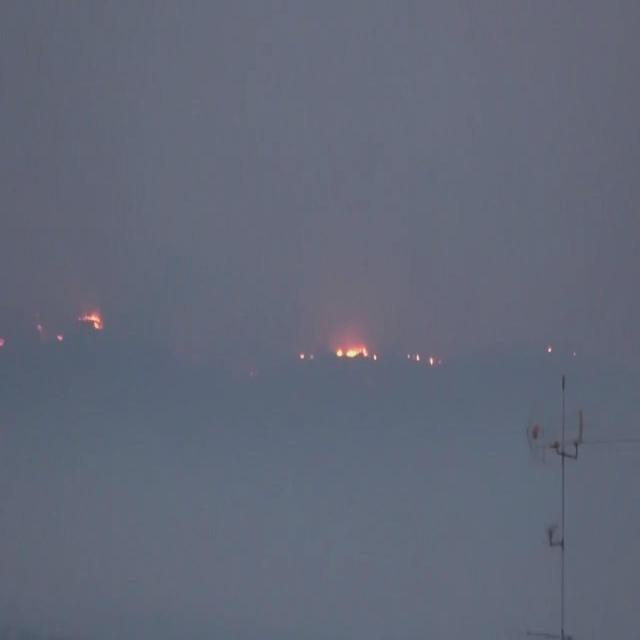Fire: (334, 342, 376, 363), (79, 311, 104, 333)
